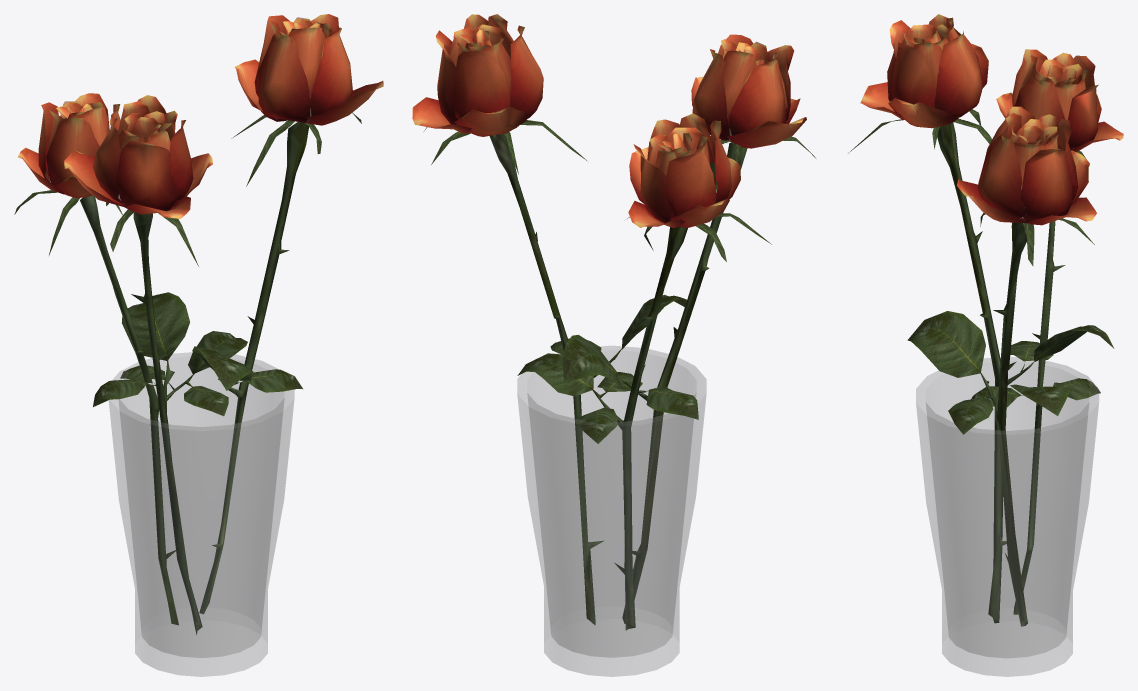
File: Roses.FBX
3 views of the same model, side by side, from view 1: azimuth 30°, elevation 25°; view 2: azimuth 150°, elevation 25°; view 3: azimuth 270°, elevation 25° (orthographic). The views are drawn at different scales.
Parts seen in each view (by area): view 1: Roses; view 2: Roses; view 3: Roses.
Part boxes in pixels (x1=…): Roses: x1=14, y1=14, x2=383, y2=676; Roses: x1=412, y1=14, x2=815, y2=676; Roses: x1=848, y1=14, x2=1123, y2=676.
Bounding box in the file's own units: 20.95 × 35.52 × 15.27.
3 materials, 2 textured.
